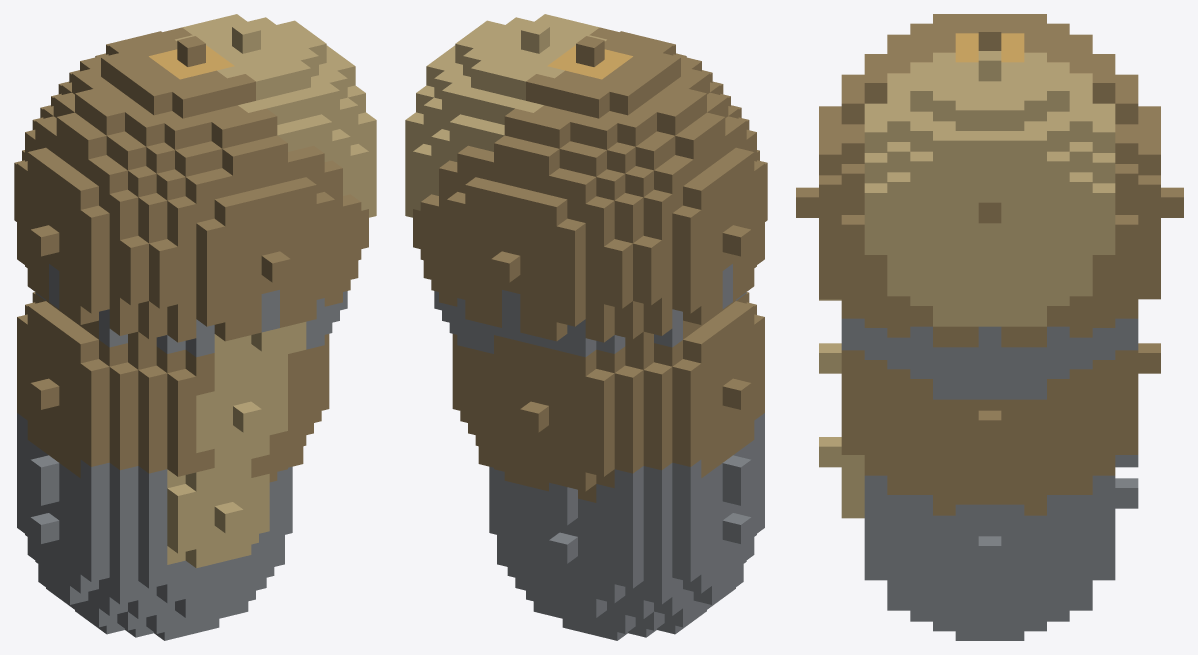
File: rm_shin.glb
The picture shows the model from 3 angles, left to right: view 1: azimuth 30°, elevation 25°; view 2: azimuth 150°, elevation 25°; view 3: azimuth 270°, elevation 25°; orthographic projection. The views are drawn at different scales.
Size of the model in its own units: 16 by 30 by 17.
